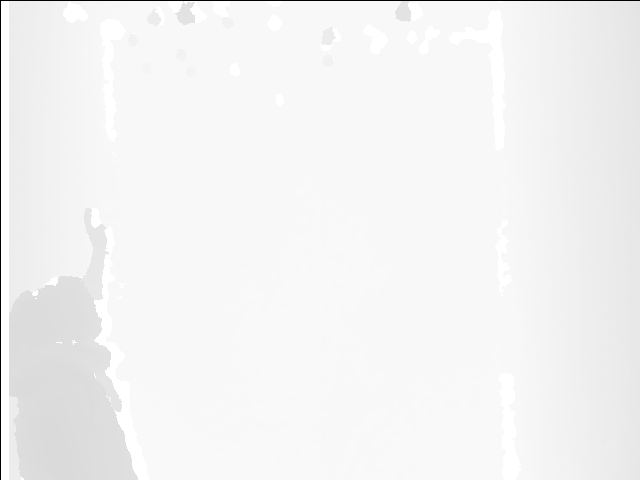hand: (83, 204, 114, 256)
